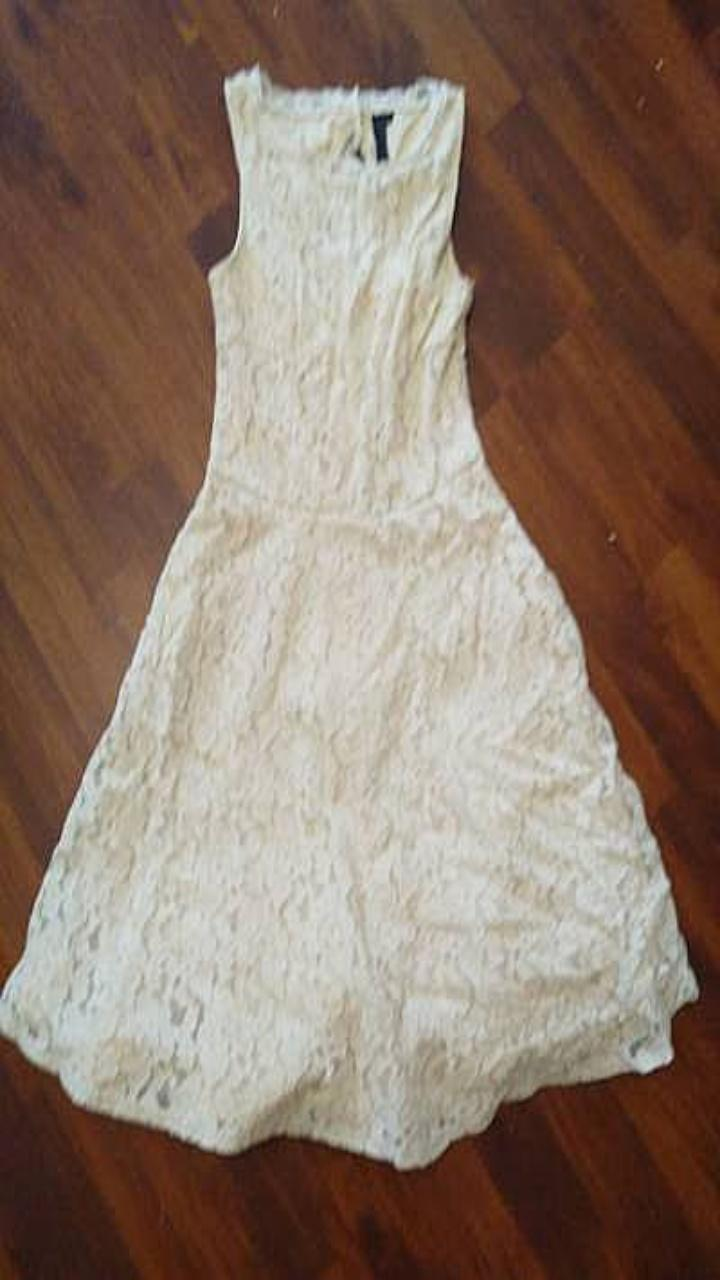Dresses: (0, 64, 697, 1167)
